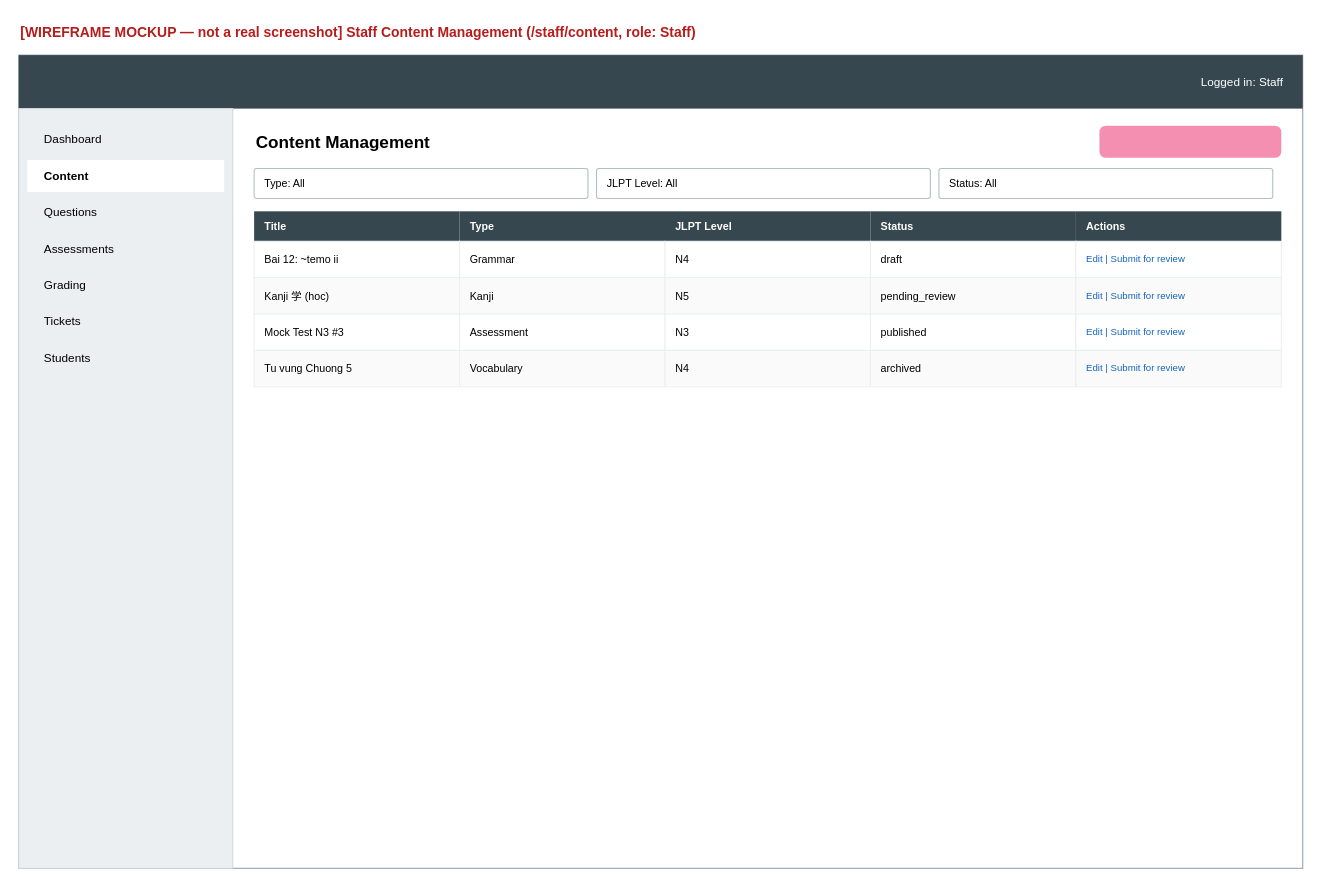
Image size: 1321x887. Some labels were removed from this diagram. The box of each missing label's shape, as (x1, y1, x2, y2) in pixels:
+ New Content: (1099, 125, 1281, 157)
SakuJi — Staff area: (18, 55, 1302, 108)
